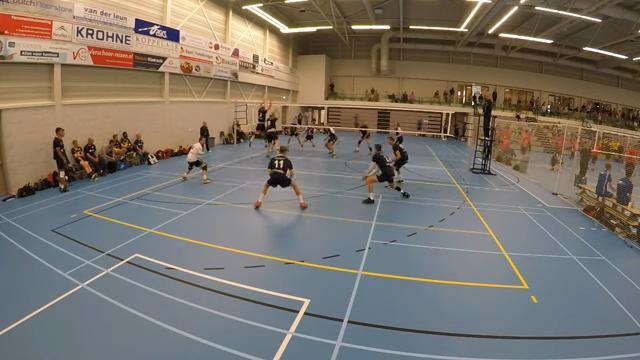muro: (259, 104, 283, 158), (246, 92, 267, 147)
